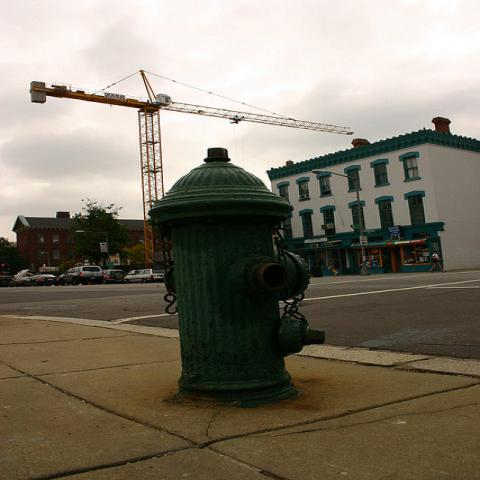car: (59, 266, 103, 284), (25, 274, 63, 287), (129, 269, 164, 282), (103, 270, 128, 284)
